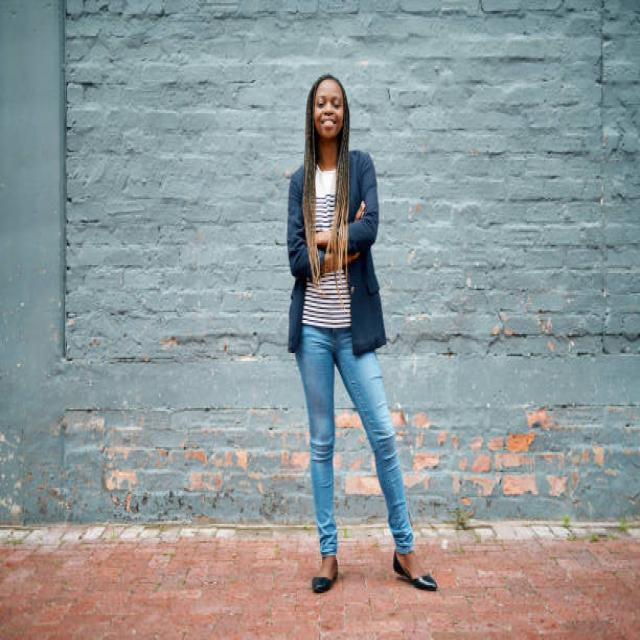Real human 2: (281, 61, 448, 602)
